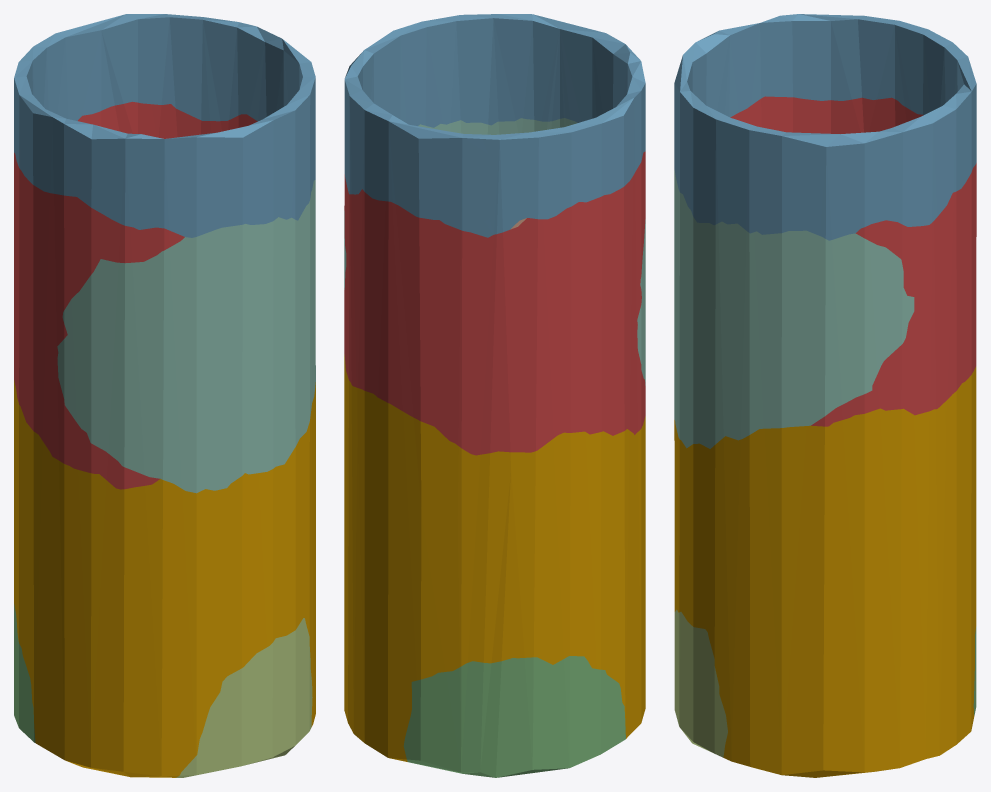
Rendered from mode_16_8pcs.glb.
3 renders of one model, left to right at view 1: azimuth 30°, elevation 25°; view 2: azimuth 150°, elevation 25°; view 3: azimuth 270°, elevation 25°, orthographic.
Parts seen in each view (by area): view 1: piece_0.obj, piece_4.obj, piece_2.obj, piece_1.obj, piece_5.obj, piece_3.obj; view 2: piece_0.obj, piece_1.obj, piece_2.obj, piece_3.obj, piece_4.obj; view 3: piece_0.obj, piece_2.obj, piece_4.obj, piece_1.obj, piece_5.obj.
Part boxes in pixels (<box>): piece_0.obj: <box>14,380,315,777</box>; piece_4.obj: <box>57,180,315,493</box>; piece_2.obj: <box>14,14,315,237</box>; piece_1.obj: <box>14,101,257,489</box>; piece_5.obj: <box>176,618,312,777</box>; piece_3.obj: <box>14,604,35,742</box>; piece_0.obj: <box>344,354,645,761</box>; piece_1.obj: <box>344,151,645,455</box>; piece_2.obj: <box>344,14,645,237</box>; piece_3.obj: <box>403,656,625,777</box>; piece_4.obj: <box>344,118,645,385</box>; piece_0.obj: <box>674,366,976,777</box>; piece_2.obj: <box>674,14,976,240</box>; piece_4.obj: <box>674,170,914,448</box>; piece_1.obj: <box>730,96,976,426</box>; piece_5.obj: <box>674,609,727,757</box>.
Size of the model in its own units: 0.424 by 1 by 0.4237.
